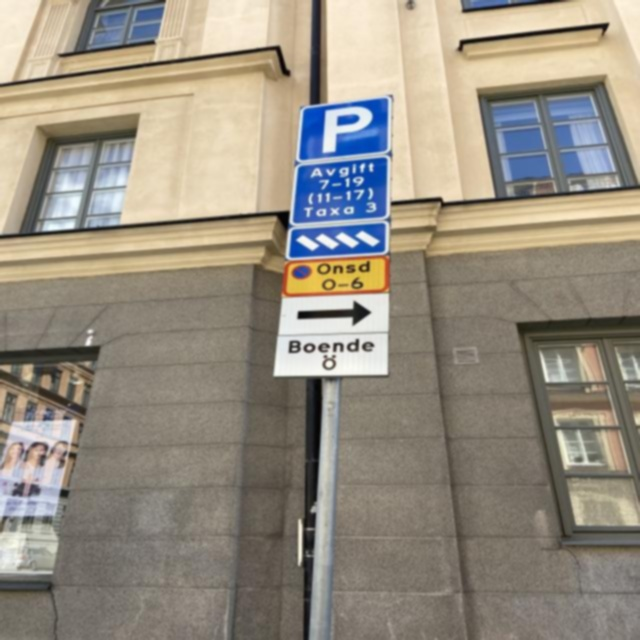P-skylt: (293, 95, 392, 163)
